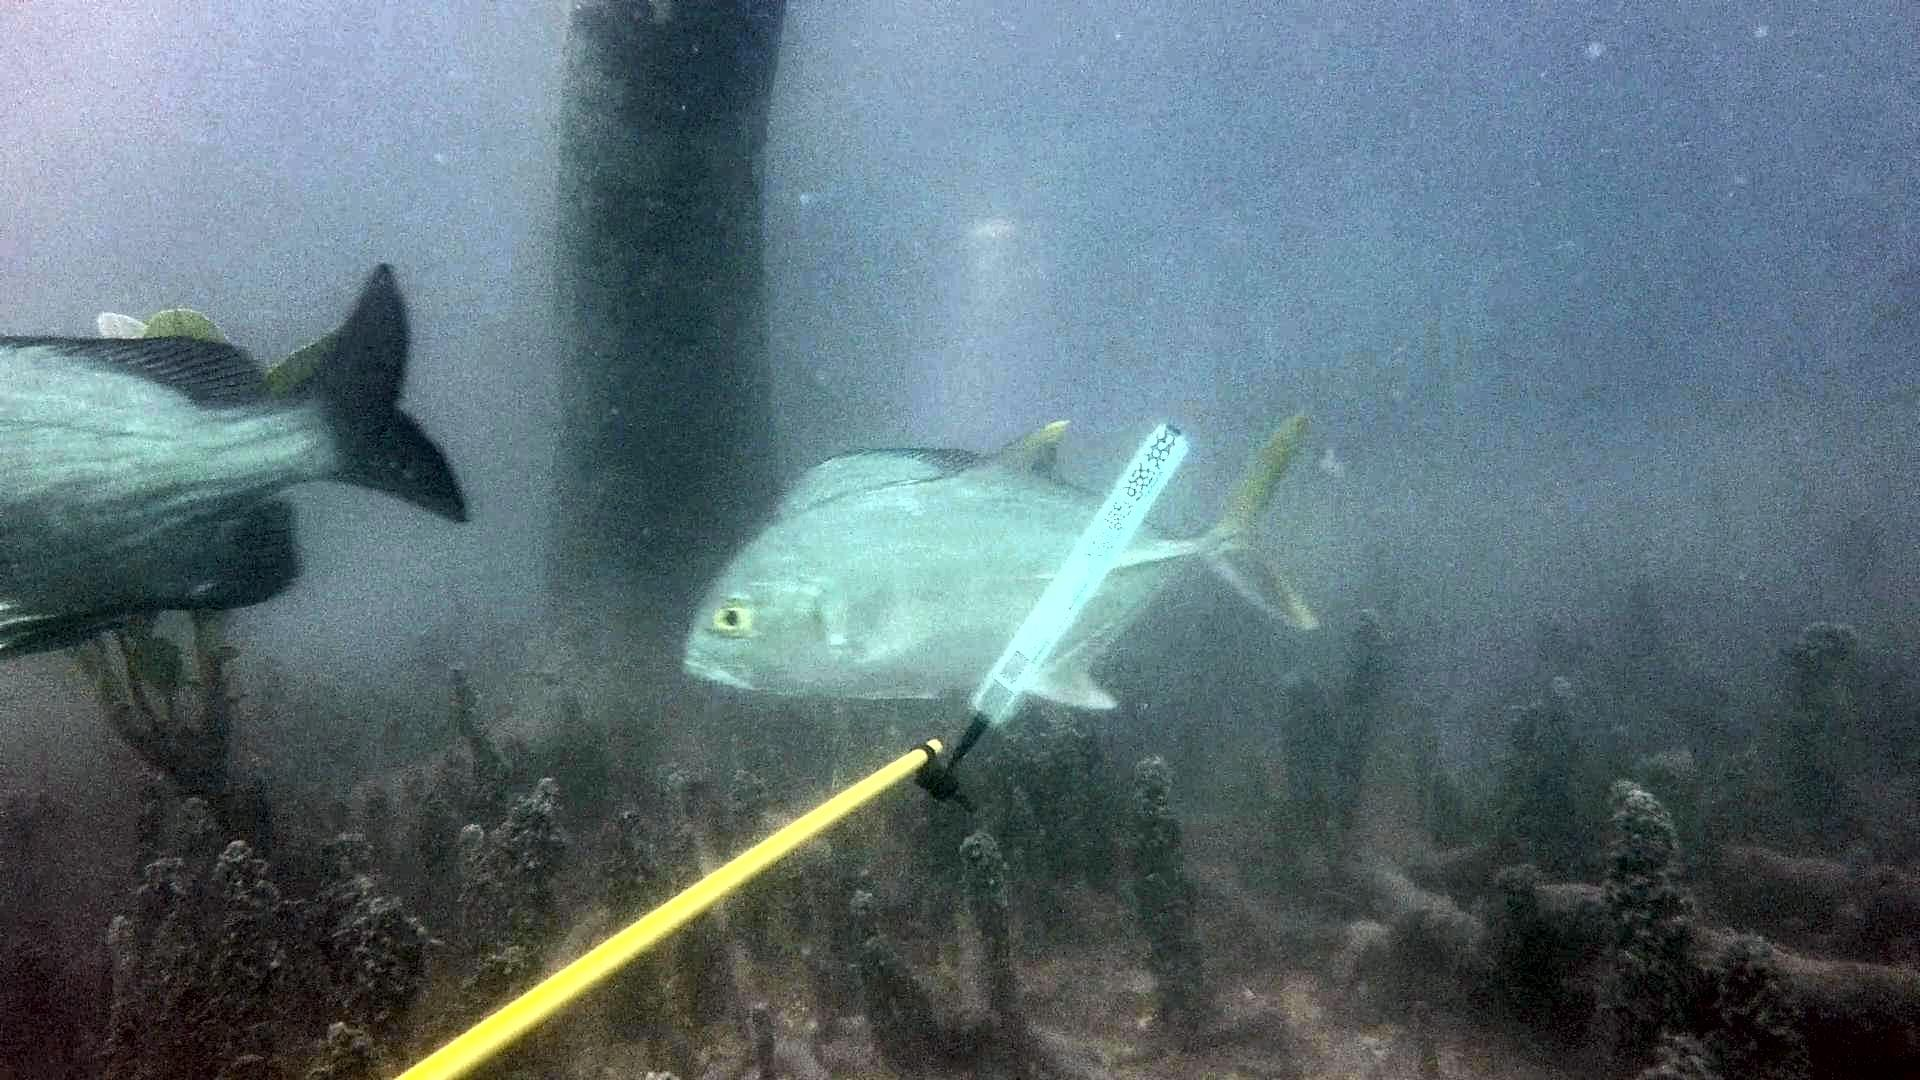acanthopagrus palmaris: (0, 252, 493, 671)
caranx: (673, 406, 1333, 720)
